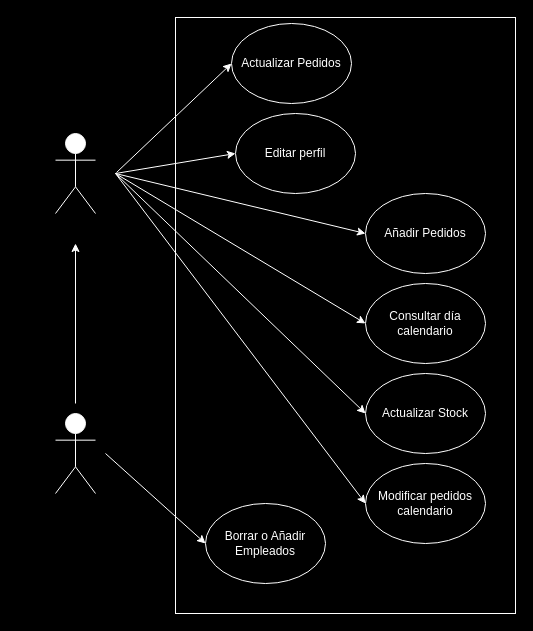
The diagram is 533 pixels wide and 631 high, and some of its shapes have lost their labels. The shapes that lost their labels are listed below. From the top down, each one's centre as x and y in pixels, then its label:
(75,173): Empleado Producción
(75,453): Directivo
